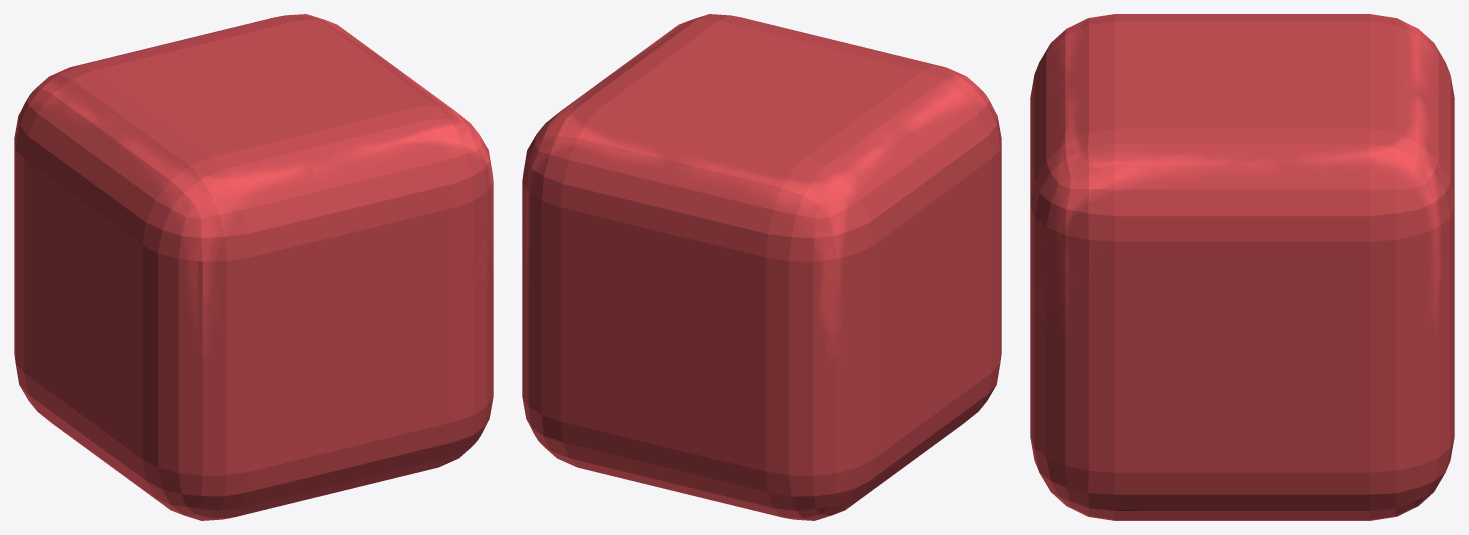
File: ButtonBody.obj
The picture shows the model from 3 angles, left to right: view 1: azimuth 30°, elevation 25°; view 2: azimuth 150°, elevation 25°; view 3: azimuth 270°, elevation 25°; orthographic projection. The views are drawn at different scales.
Parts seen in each view (by area): view 1: button.001; view 2: button.001; view 3: button.001.
Boxes of the visible parts, x1,y1,x2,y2 form: button.001: (14,14,493,520); button.001: (522,14,1001,520); button.001: (1030,14,1454,520).
Bounding box in the file's own units: 2 × 2 × 2.
1 material, 1 textured.
